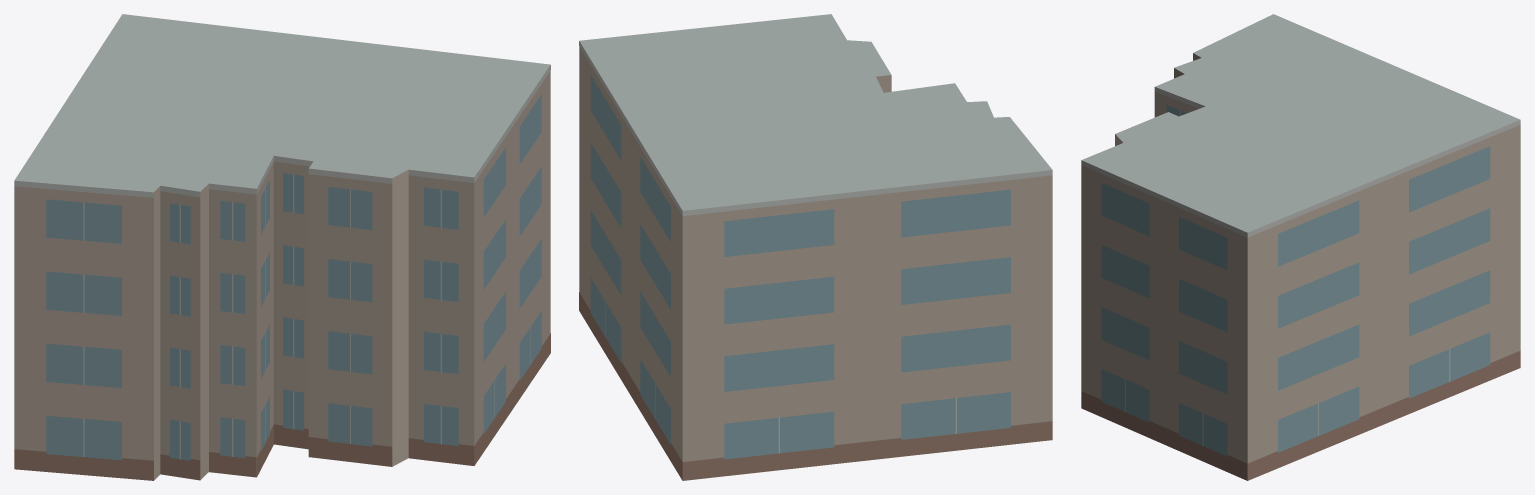
Rendered from survey-upis-33004716.glb.
3 views of the same model, side by side, from view 1: azimuth 30°, elevation 25°; view 2: azimuth 150°, elevation 25°; view 3: azimuth 270°, elevation 25° (orthographic). The views are drawn at different scales.
Parts seen in each view (by area): view 1: survey-upis-33004716.tmp; view 2: survey-upis-33004716.tmp; view 3: survey-upis-33004716.tmp.
Boxes of the visible parts, x1=… form: survey-upis-33004716.tmp: x1=14, y1=14, x2=550, y2=480; survey-upis-33004716.tmp: x1=579, y1=14, x2=1052, y2=480; survey-upis-33004716.tmp: x1=1081, y1=14, x2=1520, y2=480.
Bounding box in the file's own units: 23.64 × 12.5 × 20.07.
